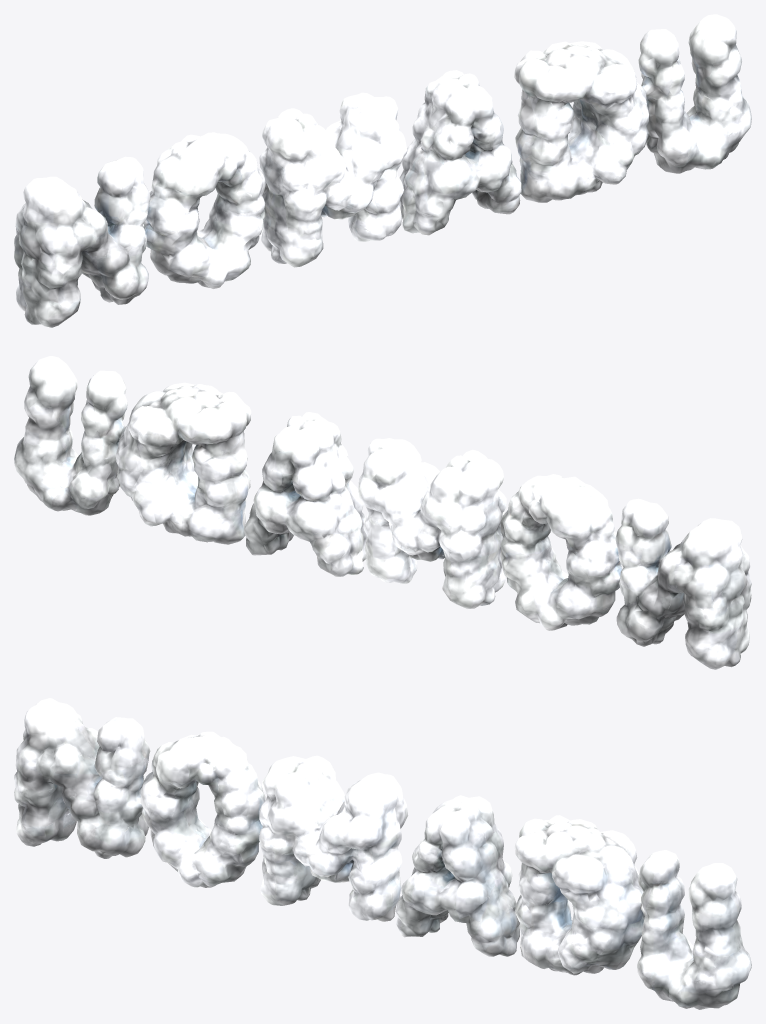
The model's file is nomadu.glb.
The picture shows the model from 3 angles, top to bottom: view 1: azimuth 30°, elevation 25°; view 2: azimuth 150°, elevation 25°; view 3: azimuth 330°, elevation 25°; orthographic projection.
Size of the model in its own units: 1.9 by 0.379 by 0.2415.
Materials: 1 (1 with a texture image).
